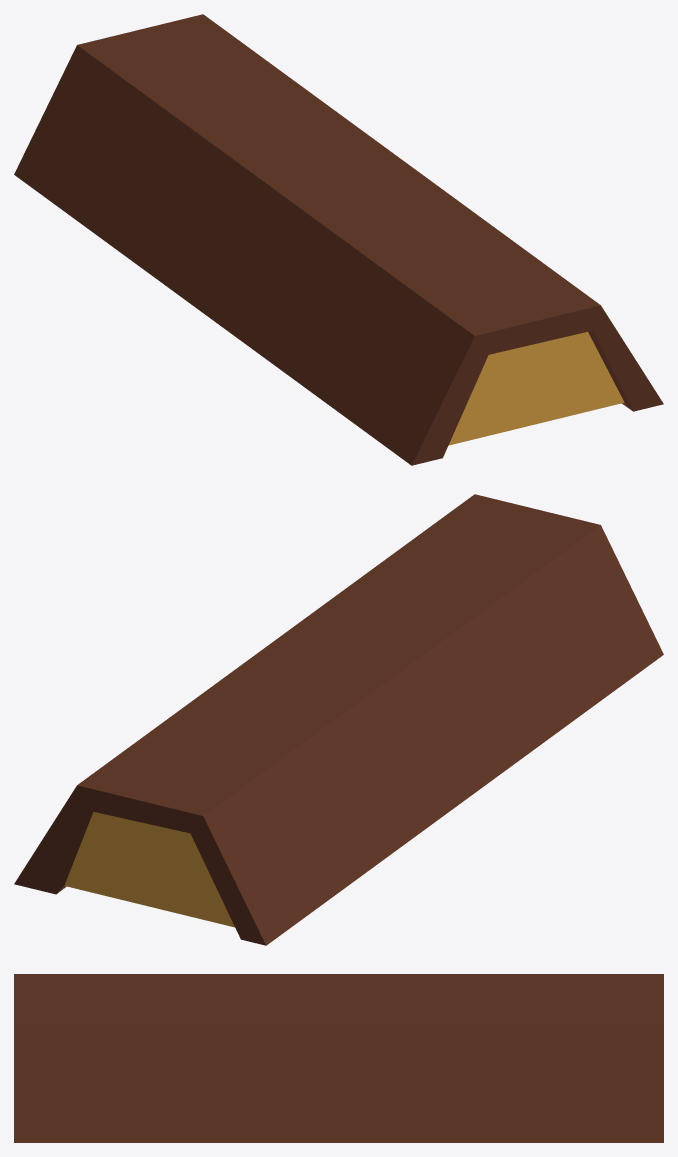
File: log2.fbx
The picture shows the model from 3 angles, top to bottom: view 1: azimuth 30°, elevation 25°; view 2: azimuth 150°, elevation 25°; view 3: azimuth 270°, elevation 25°; orthographic projection. The views are drawn at different scales.
Parts seen in each view (by area): view 1: Cylinder; view 2: Cylinder; view 3: Cylinder.
Part boxes in pixels (x1,y1,x2,y2): Cylinder: (14,14,663,465); Cylinder: (14,494,663,945); Cylinder: (14,974,663,1142).
Size of the model in its own units: 54.3 by 23.51 by 148.
